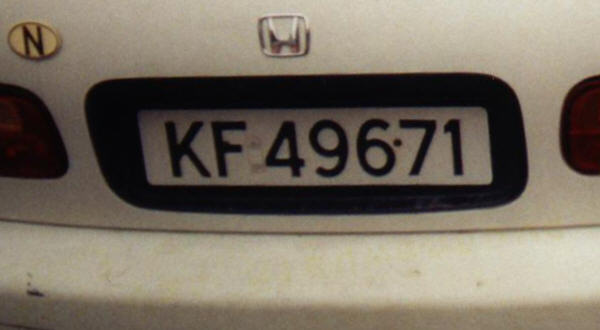license_plate: (138, 104, 493, 188)
